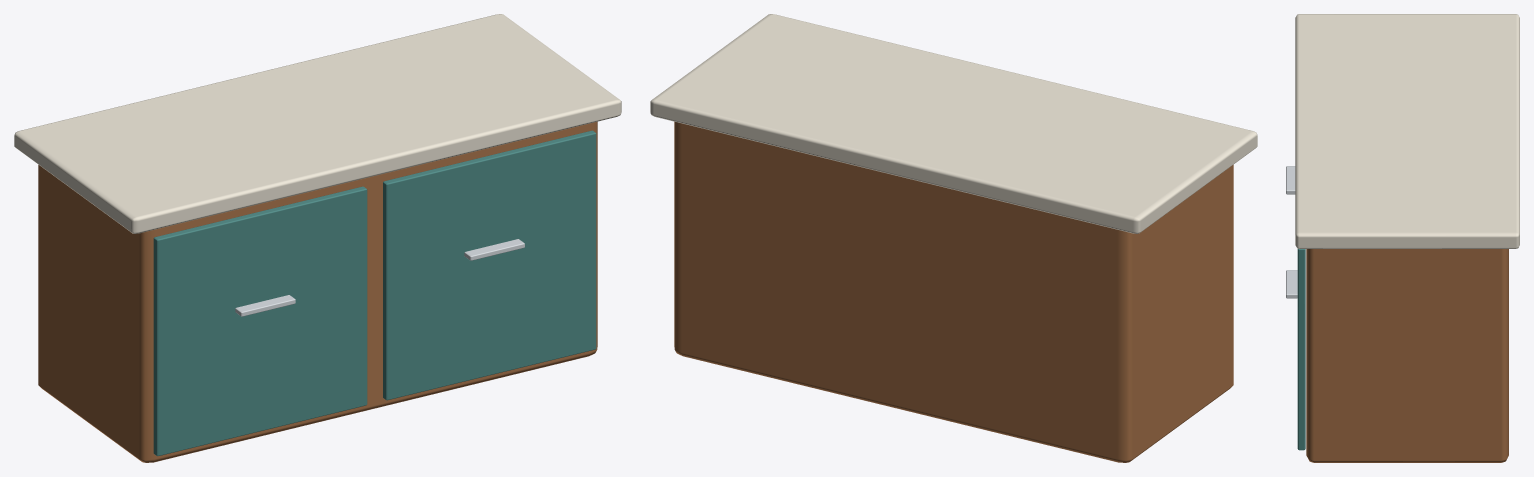
Rendered from wp-ilot-de-cuisine.glb.
3 views of the same model, side by side, from view 1: azimuth 30°, elevation 25°; view 2: azimuth 150°, elevation 25°; view 3: azimuth 270°, elevation 25° (orthographic). The views are drawn at different scales.
Visible parts, largest first — view 1: wp-ilot-de-cuisine; view 2: wp-ilot-de-cuisine; view 3: wp-ilot-de-cuisine.
Boxes of the visible parts, left/top/right/bottom form: wp-ilot-de-cuisine: left=14, top=14, right=621, bottom=462; wp-ilot-de-cuisine: left=650, top=14, right=1257, bottom=462; wp-ilot-de-cuisine: left=1286, top=14, right=1519, bottom=462.
Bounding box in the file's own units: 1.8 × 0.9 × 0.8.
